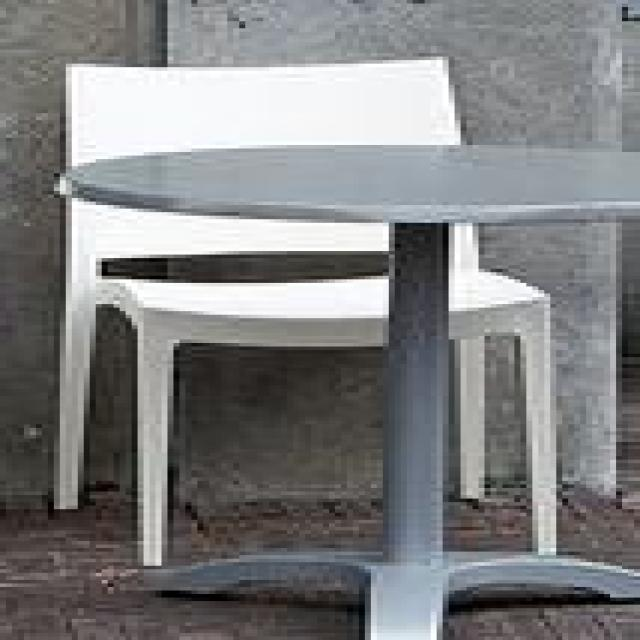chair: (60, 57, 557, 562)
table: (98, 139, 634, 640)
